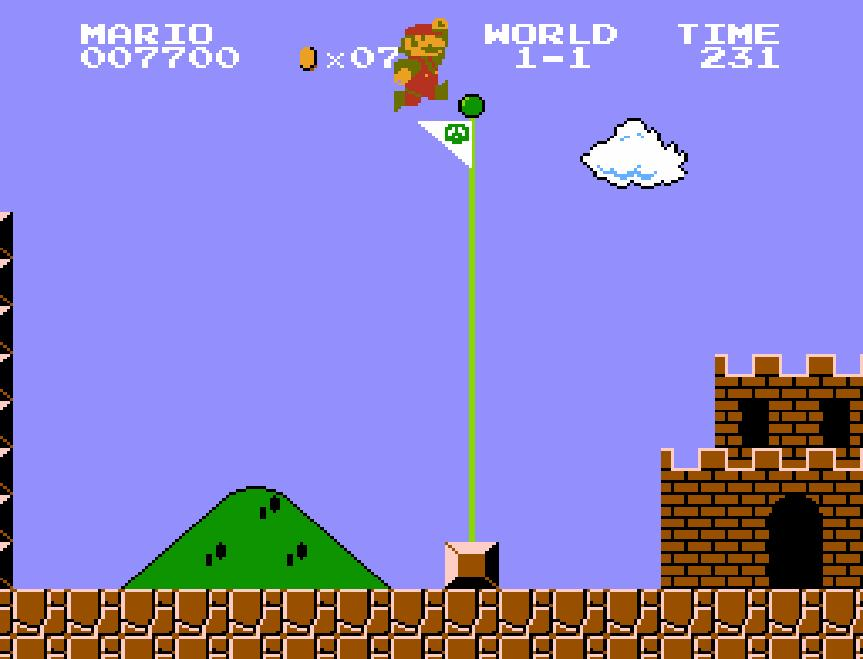big_mario: (392, 15, 450, 112)
